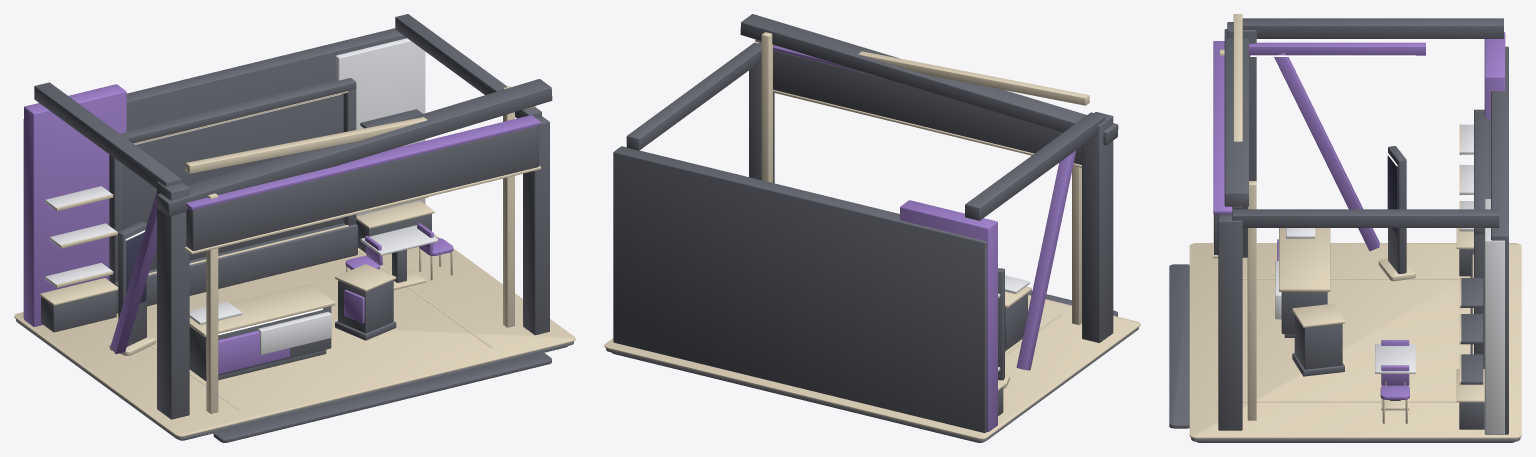
File: booth_06_dynamic_frame_v27_3.glb
The picture shows the model from 3 angles, left to right: view 1: azimuth 30°, elevation 25°; view 2: azimuth 150°, elevation 25°; view 3: azimuth 270°, elevation 25°; orthographic projection. The views are drawn at different scales.
Parts seen in each view (by area): view 1: V273_Booth06_DynamicFrame_Dynamic_Matte_Graphite, V273_Booth06_DynamicFrame_Dynamic_Champagne_Metal, V273_Booth06_DynamicFrame_Dynamic_Royal_Violet, V273_Booth06_DynamicFrame_Dynamic_Soft_Gray, V273_Booth06_DynamicFrame_Dynamic_Light_Basalt, V273_Booth06_DynamicFrame_Dynamic_Screen_Glass; view 2: V273_Booth06_DynamicFrame_Dynamic_Matte_Graphite, V273_Booth06_DynamicFrame_Dynamic_Champagne_Metal, V273_Booth06_DynamicFrame_Dynamic_Royal_Violet, V273_Booth06_DynamicFrame_Dynamic_Light_Basalt; view 3: V273_Booth06_DynamicFrame_Dynamic_Champagne_Metal, V273_Booth06_DynamicFrame_Dynamic_Matte_Graphite, V273_Booth06_DynamicFrame_Dynamic_Royal_Violet, V273_Booth06_DynamicFrame_Dynamic_Soft_Gray, V273_Booth06_DynamicFrame_Dynamic_Light_Basalt, V273_Booth06_DynamicFrame_Dynamic_Screen_Glass, V273_Booth06_DynamicFrame_Dynamic_Subtle_Violet_LED.
Part boxes in pixels (left/top/right/bottom): V273_Booth06_DynamicFrame_Dynamic_Matte_Graphite: left=23, top=14, right=567, bottom=442; V273_Booth06_DynamicFrame_Dynamic_Champagne_Metal: left=14, top=86, right=575, bottom=436; V273_Booth06_DynamicFrame_Dynamic_Royal_Violet: left=24, top=84, right=540, bottom=374; V273_Booth06_DynamicFrame_Dynamic_Soft_Gray: left=45, top=38, right=438, bottom=354; V273_Booth06_DynamicFrame_Dynamic_Light_Basalt: left=16, top=319, right=573, bottom=439; V273_Booth06_DynamicFrame_Dynamic_Screen_Glass: left=126, top=232, right=146, bottom=303; V273_Booth06_DynamicFrame_Dynamic_Matte_Graphite: left=612, top=14, right=1118, bottom=442; V273_Booth06_DynamicFrame_Dynamic_Champagne_Metal: left=604, top=32, right=1140, bottom=439; V273_Booth06_DynamicFrame_Dynamic_Royal_Violet: left=773, top=45, right=1076, bottom=431; V273_Booth06_DynamicFrame_Dynamic_Light_Basalt: left=606, top=327, right=1138, bottom=442; V273_Booth06_DynamicFrame_Dynamic_Champagne_Metal: left=1189, top=14, right=1521, bottom=438; V273_Booth06_DynamicFrame_Dynamic_Matte_Graphite: left=1169, top=18, right=1514, bottom=442; V273_Booth06_DynamicFrame_Dynamic_Royal_Violet: left=1213, top=32, right=1505, bottom=399; V273_Booth06_DynamicFrame_Dynamic_Soft_Gray: left=1275, top=124, right=1504, bottom=434; V273_Booth06_DynamicFrame_Dynamic_Light_Basalt: left=1191, top=437, right=1520, bottom=441; V273_Booth06_DynamicFrame_Dynamic_Screen_Glass: left=1387, top=155, right=1397, bottom=235; V273_Booth06_DynamicFrame_Dynamic_Subtle_Violet_LED: left=1250, top=55, right=1416, bottom=166.
Bounding box in the file's own units: 7.2 × 4.38 × 5.52.
